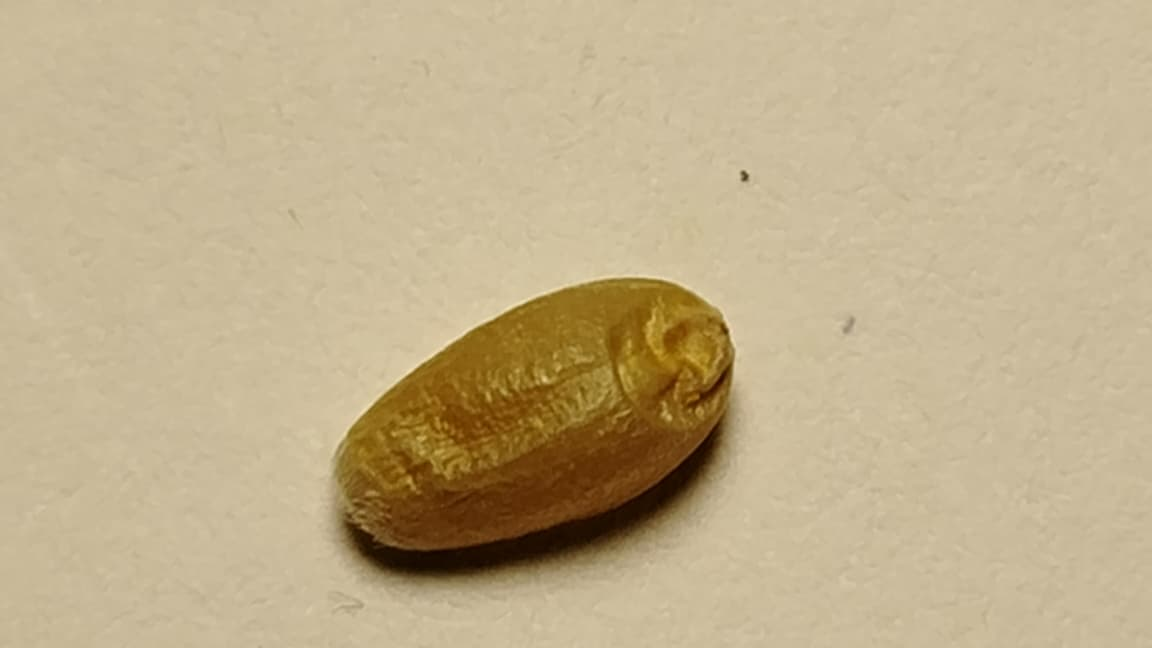healthy: (335, 276, 734, 550)
